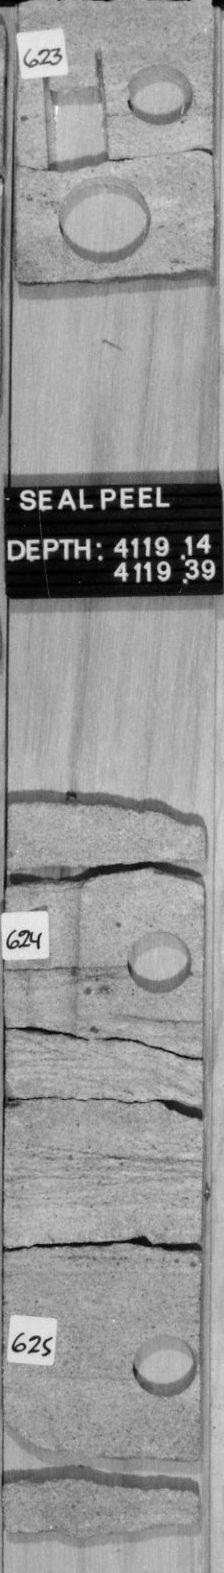hplug: (127, 1326, 199, 1405), (117, 61, 199, 130), (120, 924, 196, 997)
scal: (56, 176, 156, 268)
vplug: (23, 876, 86, 1035), (38, 47, 114, 174)
